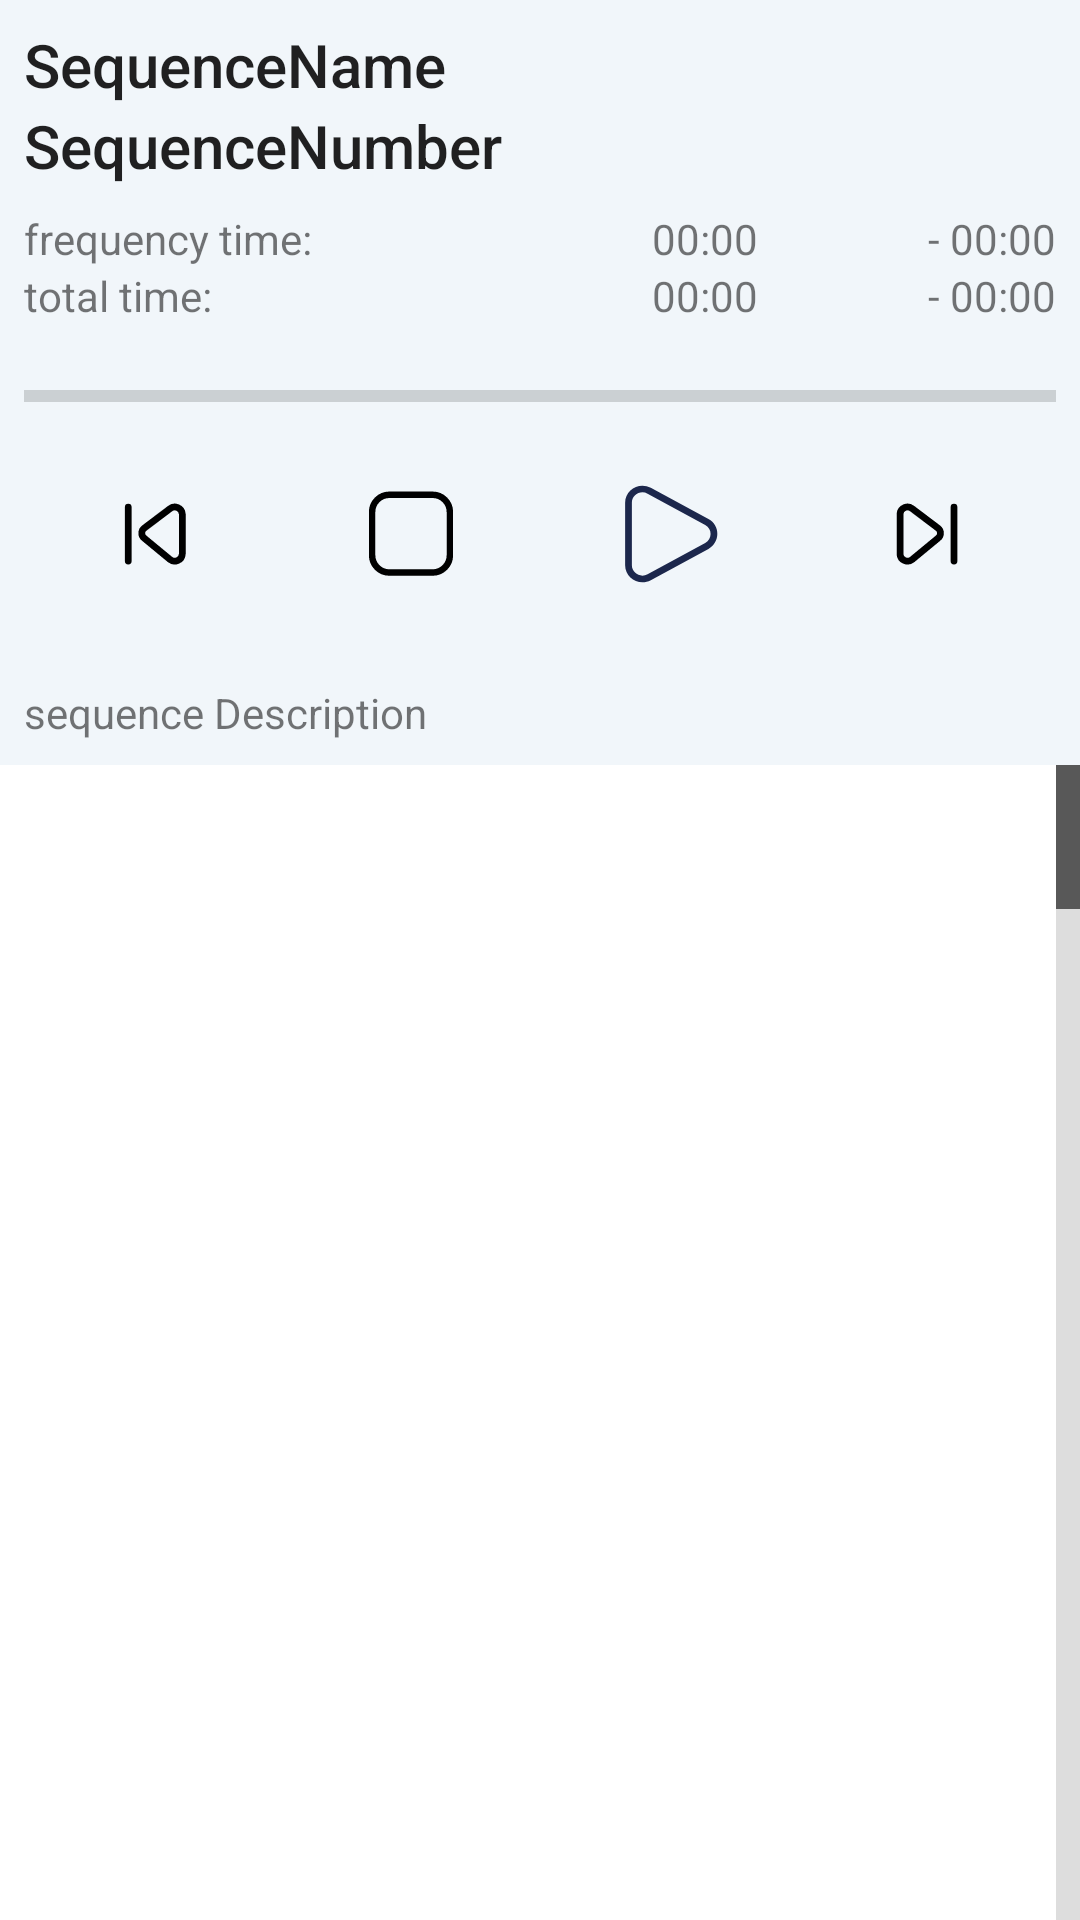

Icon bounding boxes for this 1080x1920 phone screenshot, format (x1, y1, x2, y2):
next: (896, 503, 958, 565)
play: (625, 485, 718, 583)
previous: (124, 503, 186, 565)
stop: (369, 491, 453, 576)
